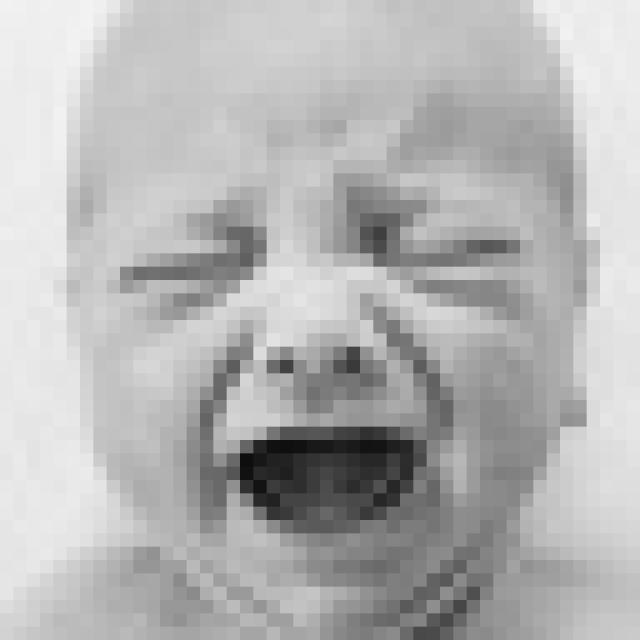sad: (103, 148, 538, 586)
